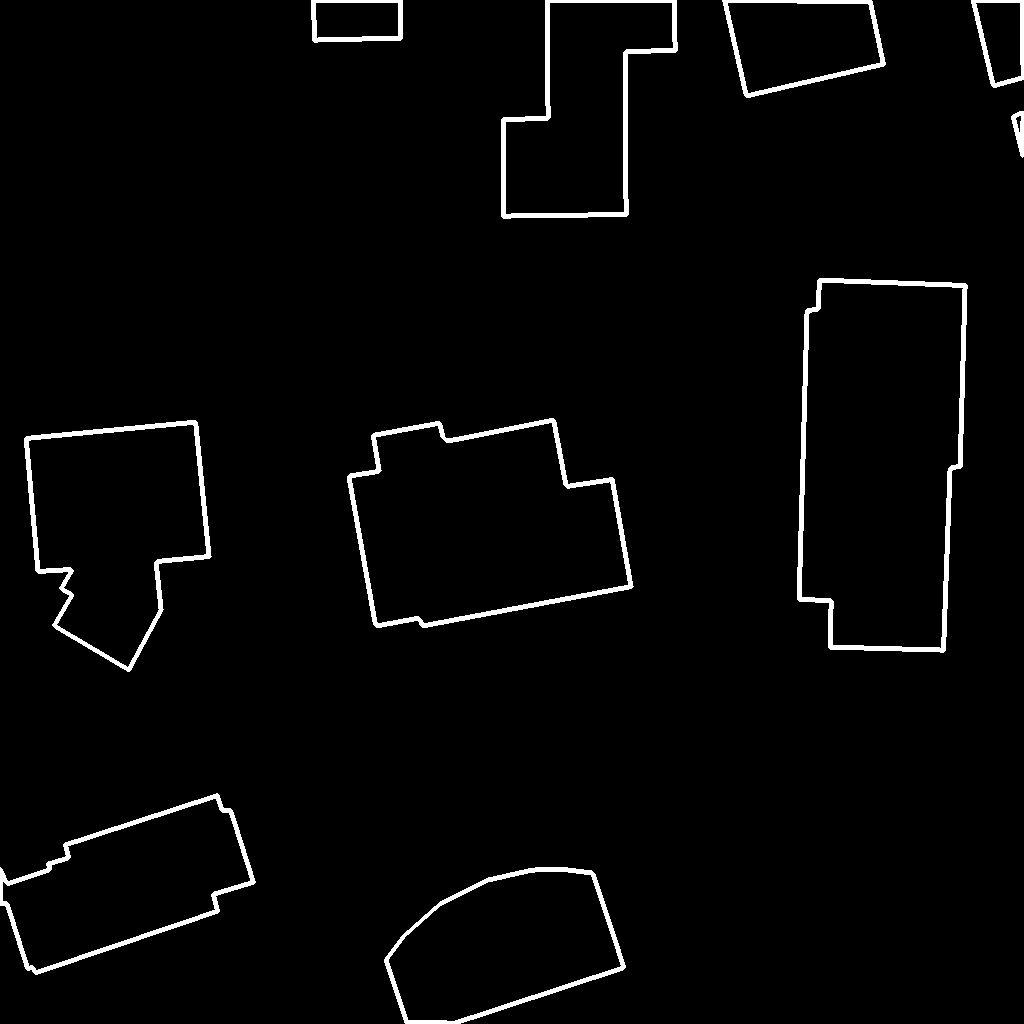building: (799, 280, 966, 651), (349, 420, 632, 627), (26, 422, 210, 671), (0, 795, 255, 974), (503, 0, 676, 217), (386, 869, 625, 1024), (724, 0, 885, 97), (973, 0, 1024, 87), (313, 0, 402, 41), (1013, 113, 1024, 159)
